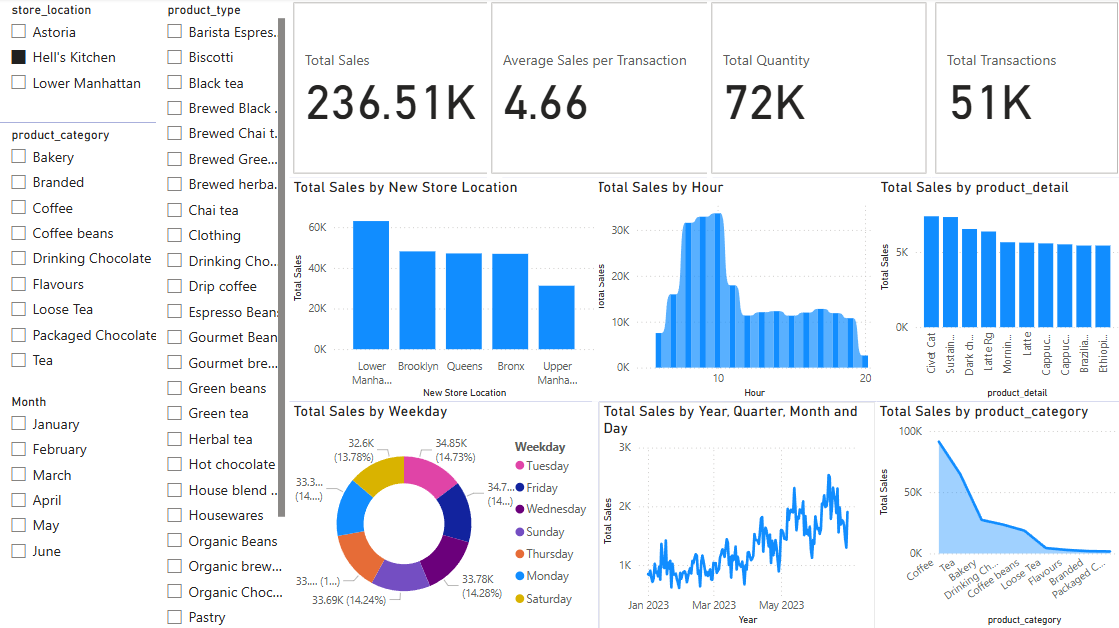

Layout of this report page (visuals, bound fields, positions):
{"tool":"powerbi","page":{"name":"Page 1","canvas":[1280,720],"ordinal":0},"visuals":[{"type":"card","fields":{"Values":["Transactions.Total Sales"]},"box":[320.1,151.5,243.8,157.2],"z":0},{"type":"card","fields":{"Values":["Transactions.Average Sales per Transaction"]},"box":[563.9,151.5,239.2,157.2],"z":1000},{"type":"card","fields":{"Values":["Transactions.Total Quantity"]},"box":[803.2,151.5,255.2,157.2],"z":2000},{"type":"card","fields":{"Values":["Transactions.Total Transactions"]},"box":[1045.7,151.6,220.5,157.7],"z":3000},{"type":"lineChart","fields":{"Y":["Transactions.Total Sales"],"Category":["Transactions.transaction_date.Variation.Date Hierarchy.Year","Transactions.transaction_date.Variation.Date Hierarchy.Quarter","Transactions.transaction_date.Variation.Date Hierarchy.Month","Transactions.transaction_date.Variation.Date Hierarchy.Day"]},"box":[563.4,520.6,367.5,199],"z":4000},{"type":"stackedAreaChart","fields":{"Category":["Transactions.product_category"],"Y":["Transactions.Total Sales"]},"box":[956.9,520.6,323.1,199],"z":5000},{"type":"clusteredColumnChart","fields":{"Category":["Transactions.product_detail"],"Y":["Transactions.Total Sales"]},"box":[956.9,309.3,321.5,211.3],"z":6000},{"type":"ribbonChart","fields":{"Category":["Transactions.Hour"],"Y":["Transactions.Total Sales"]},"box":[584.9,309.3,372.1,211.3],"z":7000},{"type":"donutChart","fields":{"Category":["Transactions.Weekday"],"Y":["Transactions.Total Sales"]},"box":[189.9,520.6,395,199],"z":8000},{"type":"columnChart","fields":{"Category":["Transactions.New Store Location"],"Y":["Transactions.Total Sales"]},"box":[189.9,309.3,395,211.3],"z":9000},{"type":"slicer","fields":{"Values":["Transactions.transaction_date.Variation.Date Hierarchy.Month"]},"box":[0,446.6,190.3,272.3],"z":10000},{"type":"textbox","box":[329.2,0,949,151.5],"z":11000},{"type":"image","box":[341.8,34.2,109.4,83.2],"z":12000},{"type":"image","box":[1182.5,38.7,95.7,74.1],"z":13000},{"type":"slicer","fields":{"Values":["Transactions.store_location"]},"box":[0,0,189.9,142.4],"z":14000},{"type":"slicer","fields":{"Values":["Transactions.product_category"]},"box":[0,151.6,189.9,295.5],"z":15000},{"type":"slicer","fields":{"Values":["Transactions.product_type"]},"box":[189.9,0,139.3,185.3],"z":16000}]}

Visuals, with their boxes in screenshot pixels (x1, y1, x2, y2), scaled from the page's 1280x720 canvas onto the 1119x628 screenshot:
card - Transactions.Total Sales: locate(280, 132, 493, 269)
card - Transactions.Average Sales per Transaction: locate(493, 132, 702, 269)
card - Transactions.Total Quantity: locate(702, 132, 925, 269)
card - Transactions.Total Transactions: locate(914, 132, 1107, 270)
lineChart - Transactions.Total Sales x Transactions.transaction_date.Variation.Date Hierarchy.Year: locate(493, 454, 814, 627)
stackedAreaChart - Transactions.product_category x Transactions.Total Sales: locate(837, 454, 1118, 627)
clusteredColumnChart - Transactions.product_detail x Transactions.Total Sales: locate(837, 270, 1118, 454)
ribbonChart - Transactions.Hour x Transactions.Total Sales: locate(511, 270, 837, 454)
donutChart - Transactions.Weekday x Transactions.Total Sales: locate(166, 454, 511, 627)
columnChart - Transactions.New Store Location x Transactions.Total Sales: locate(166, 270, 511, 454)
slicer - Transactions.transaction_date.Variation.Date Hierarchy.Month: locate(0, 390, 166, 627)
textbox: locate(288, 0, 1117, 132)
image: locate(299, 30, 394, 102)
image: locate(1034, 34, 1117, 98)
slicer - Transactions.store_location: locate(0, 0, 166, 124)
slicer - Transactions.product_category: locate(0, 132, 166, 390)
slicer - Transactions.product_type: locate(166, 0, 288, 162)
